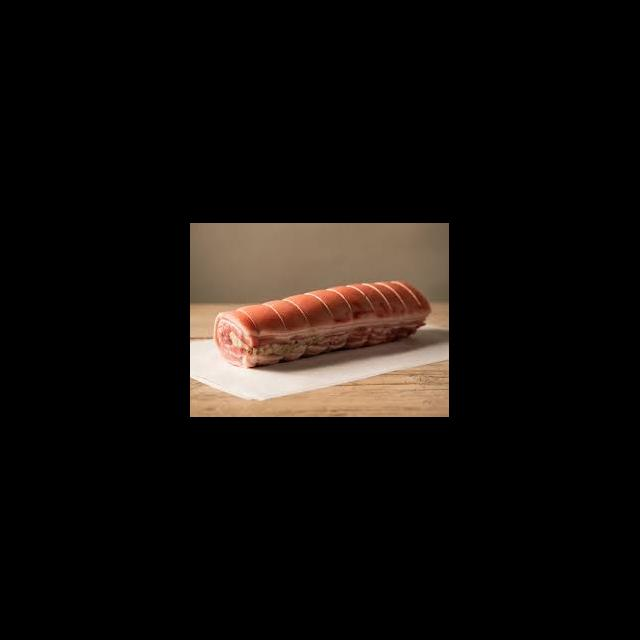pork: (214, 278, 432, 367)
